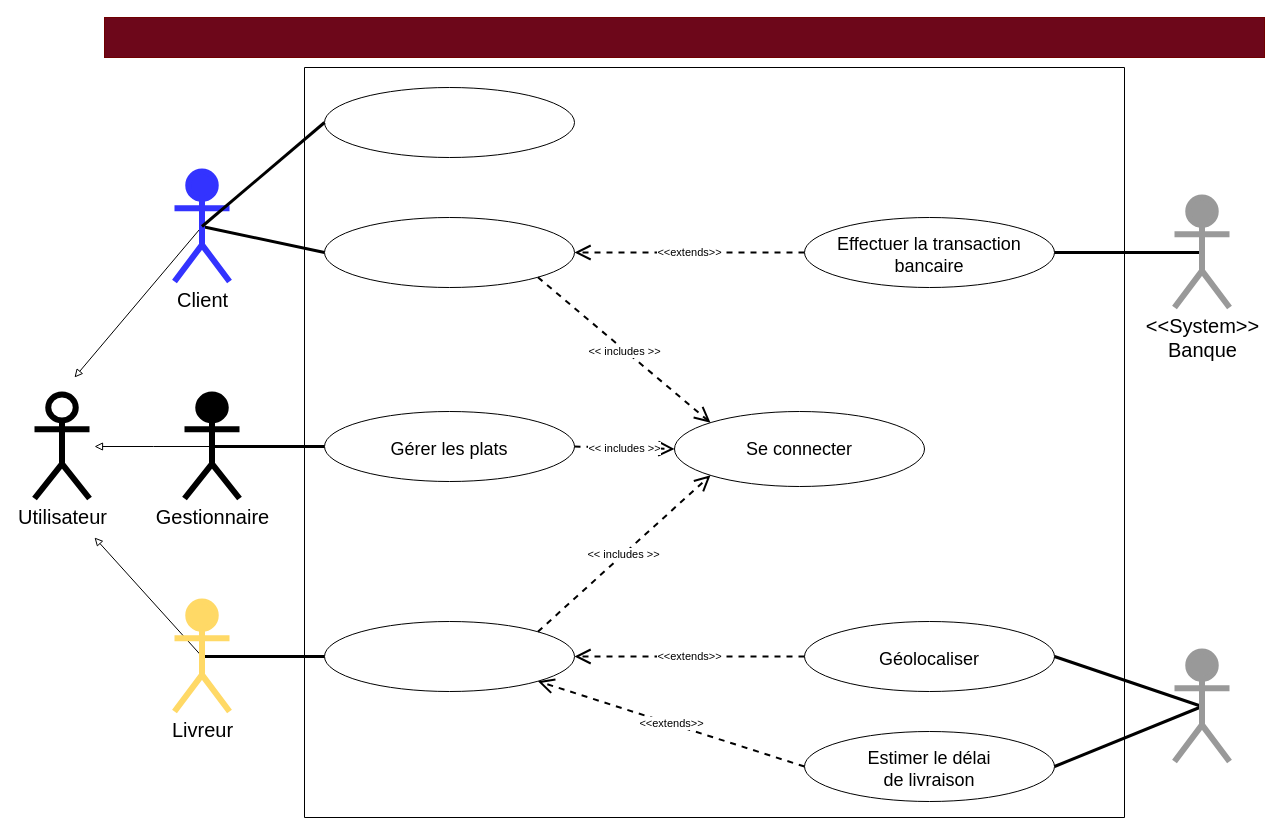
Image size: 1287x835. Some labels were removed from this diagram. The box of each missing label's shape, as (x1, y1, x2, y2) in pixels:
<<System>> Géolocalisation: (1171, 648, 1232, 764)
Commander les plats du jour: (324, 216, 574, 288)
Consulter les plats du jour: (324, 86, 574, 158)
Diagramme de cas d'utilisation : Général: (104, 16, 1264, 58)
Gérer livraison: (324, 620, 574, 692)
